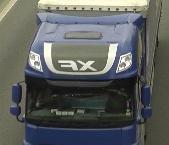Truck: (10, 0, 162, 145)
